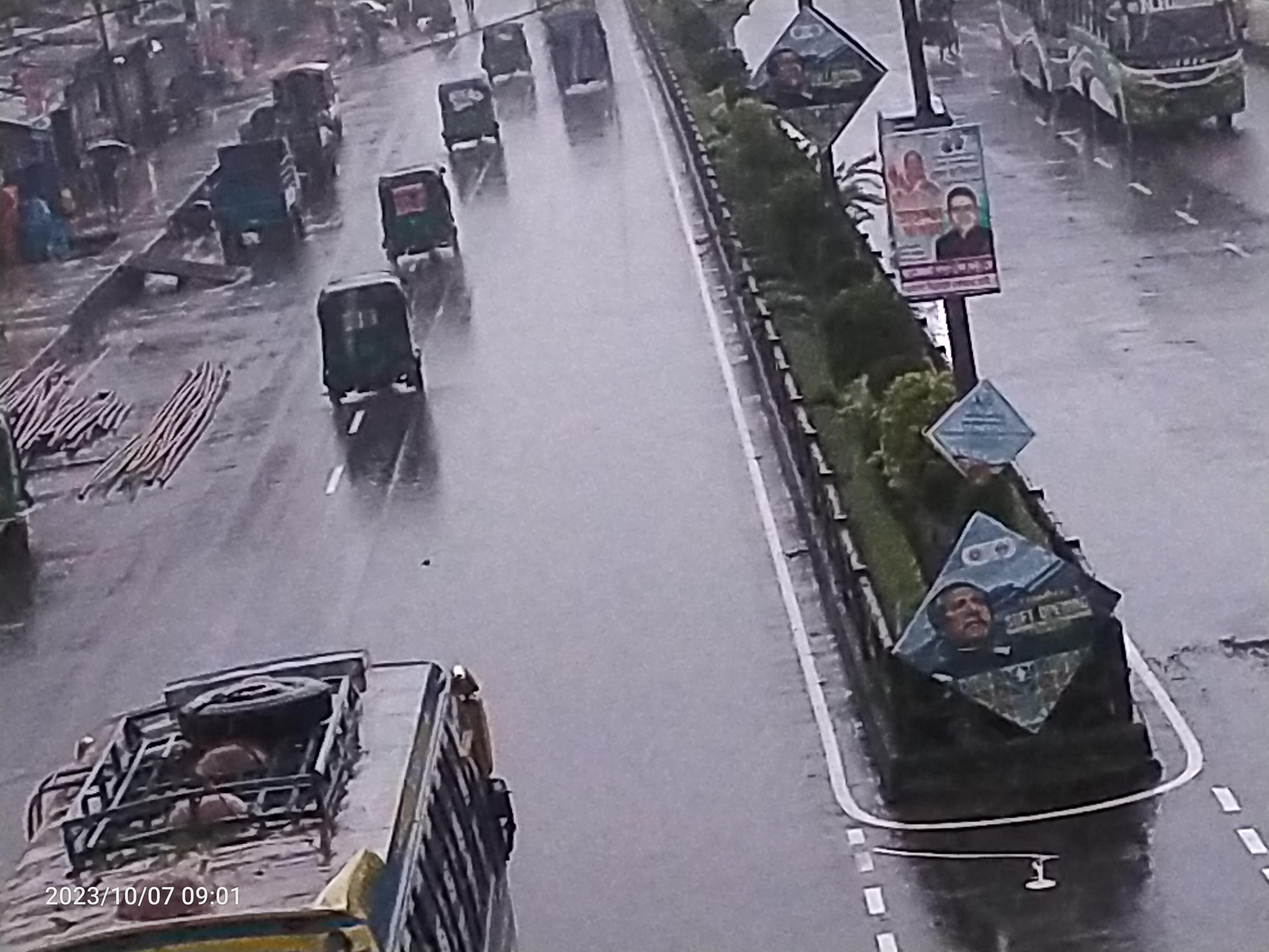Bus: (0, 569, 644, 952), (983, 0, 1269, 193)
Truck: (172, 128, 339, 261), (225, 84, 357, 225), (261, 60, 335, 122)
